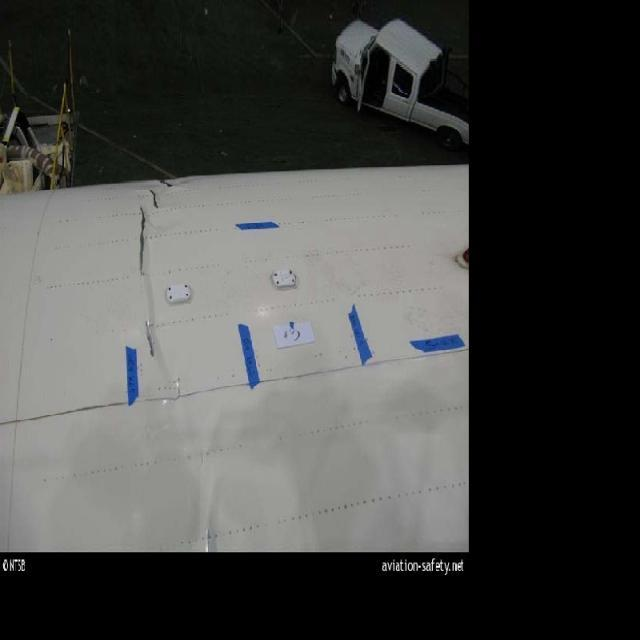crack: (136, 205, 148, 283), (143, 317, 162, 364), (145, 189, 164, 210)
